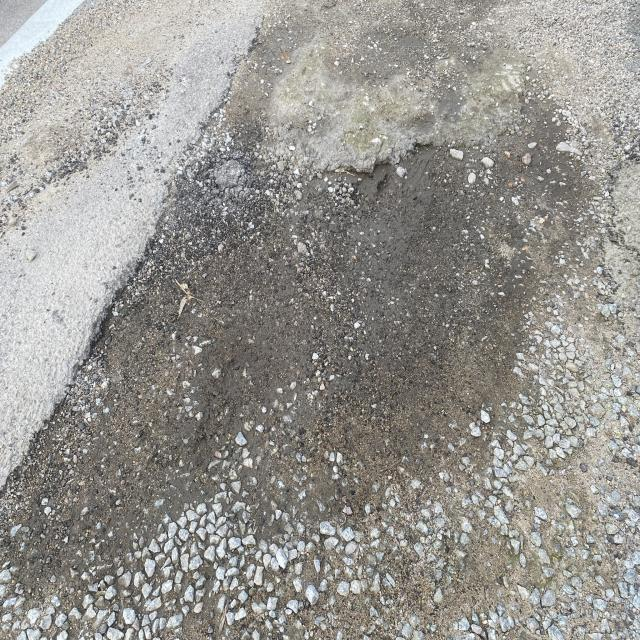Pothole: (30, 244, 301, 498), (200, 115, 490, 241)
